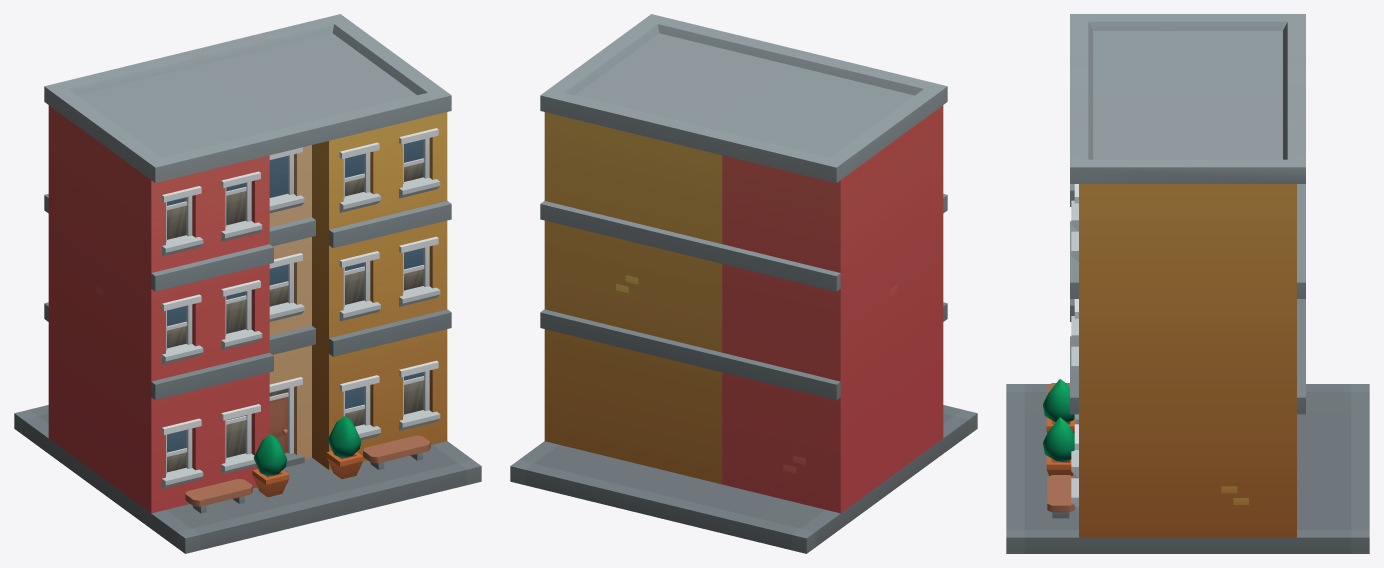
Rendered from bld-f.glb.
The picture shows the model from 3 angles, left to right: view 1: azimuth 30°, elevation 25°; view 2: azimuth 150°, elevation 25°; view 3: azimuth 270°, elevation 25°; orthographic projection. The views are drawn at different scales.
Visible parts, largest first — view 1: building_F; view 2: building_F; view 3: building_F.
Part boxes in pixels (x1,y1,x2,y2): building_F: [14, 14, 481, 553]; building_F: [510, 14, 977, 553]; building_F: [1006, 14, 1369, 553].
Bounding box in the file's own units: 2.01 × 2.35 × 2.
1 material, 1 textured.
